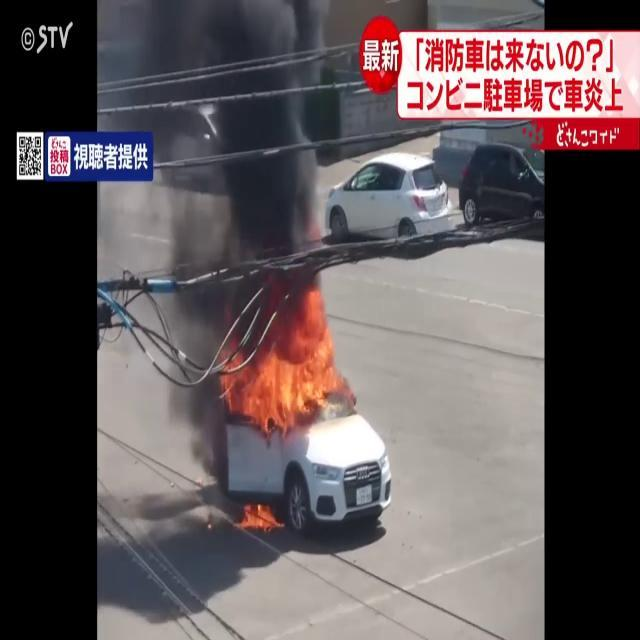Fire: (238, 286, 349, 436), (237, 496, 281, 532)
Smoke: (100, 0, 340, 316)
